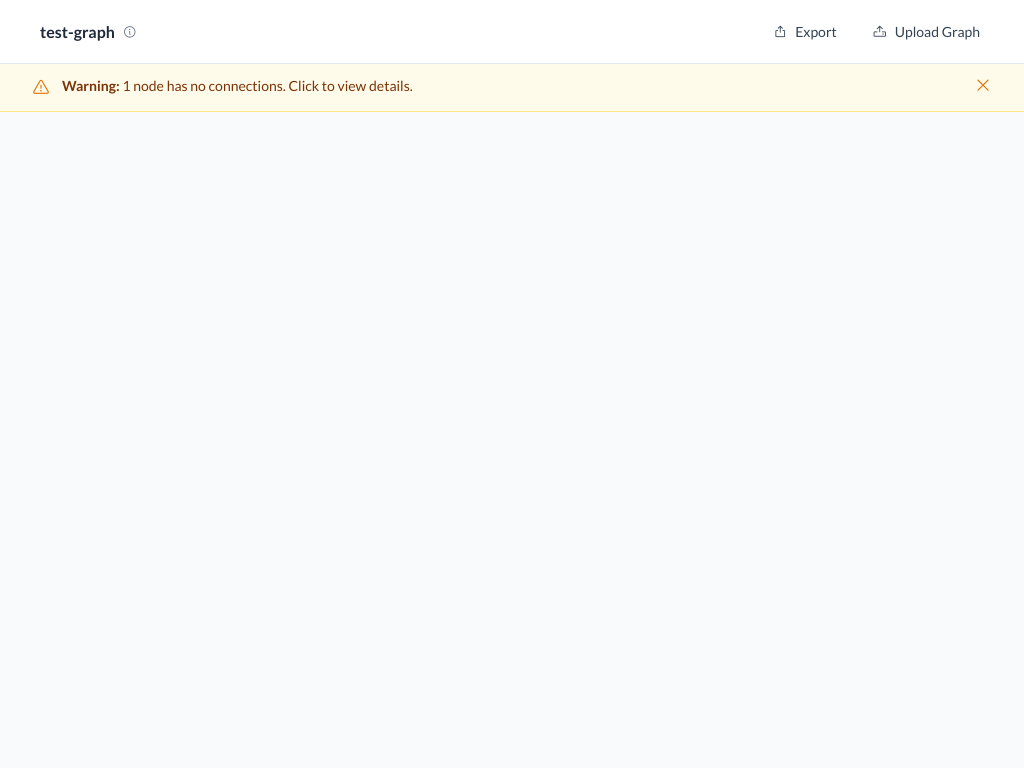
Header › export dropdown › closes dropdown when clicking outside
Step 1. Click the button "Export" → (805, 32), box top-left (761, 16), bottom-right (849, 48)
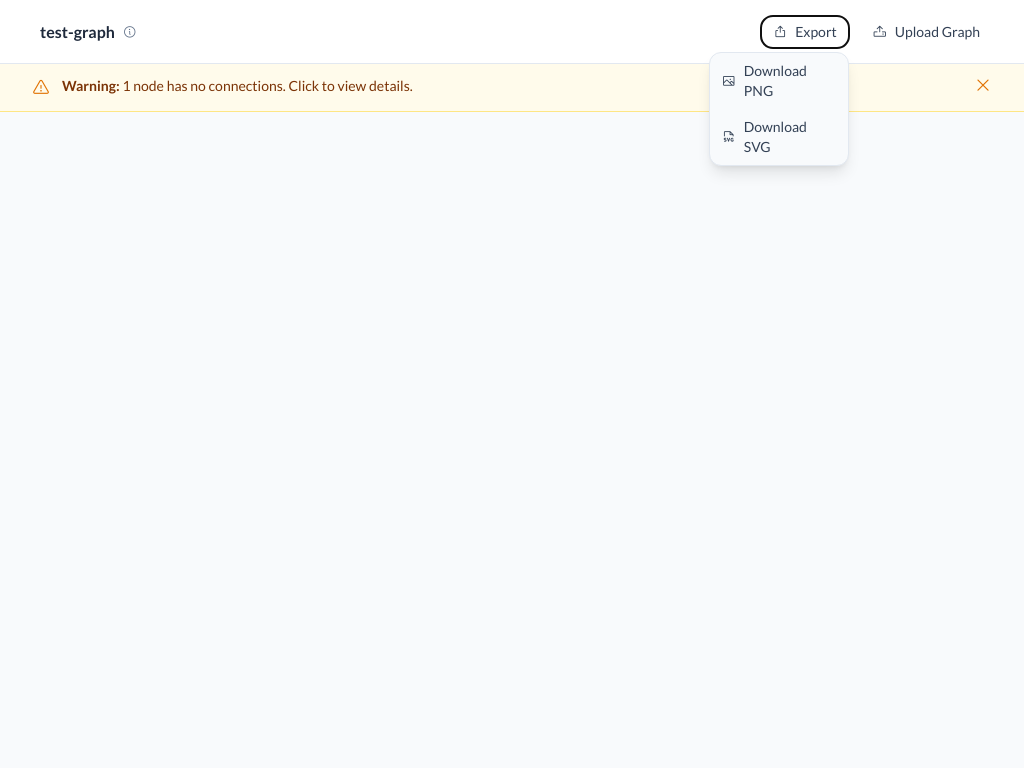
expect the menu item "Download PNG" is shown: met, box top-left (710, 52), bottom-right (848, 108)
Step 2. Click the element that starts with "test-graph" → (512, 384), box top-left (0, 0), bottom-right (1023, 767)
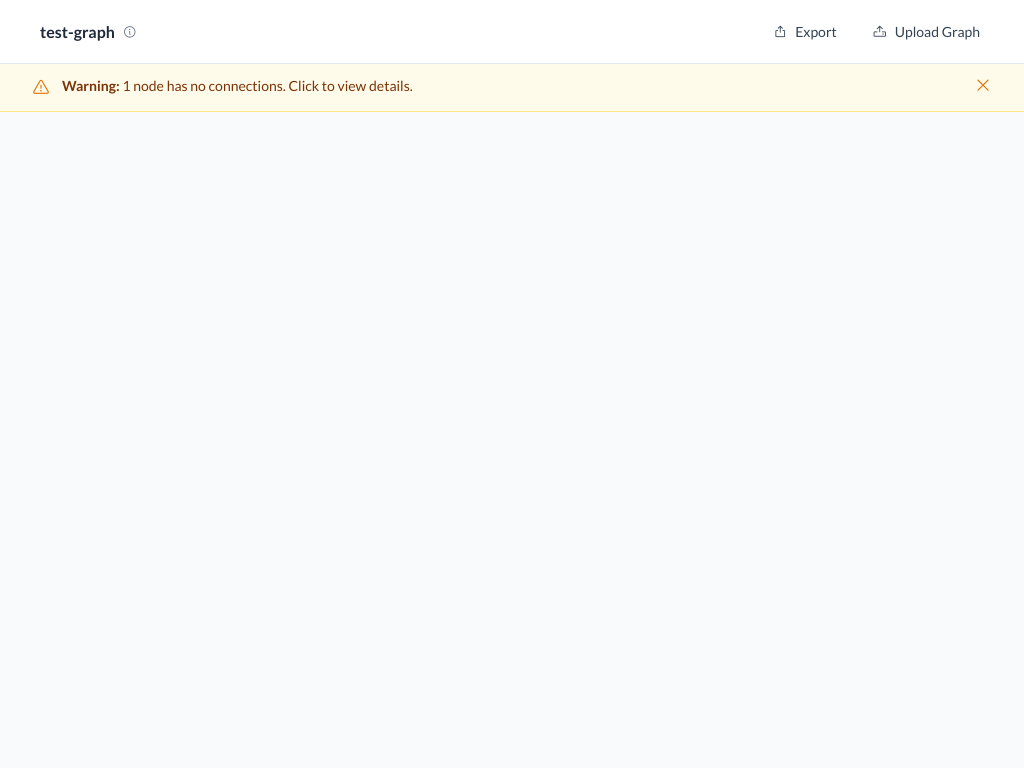
expect the menu item "PNG" is gone: met
